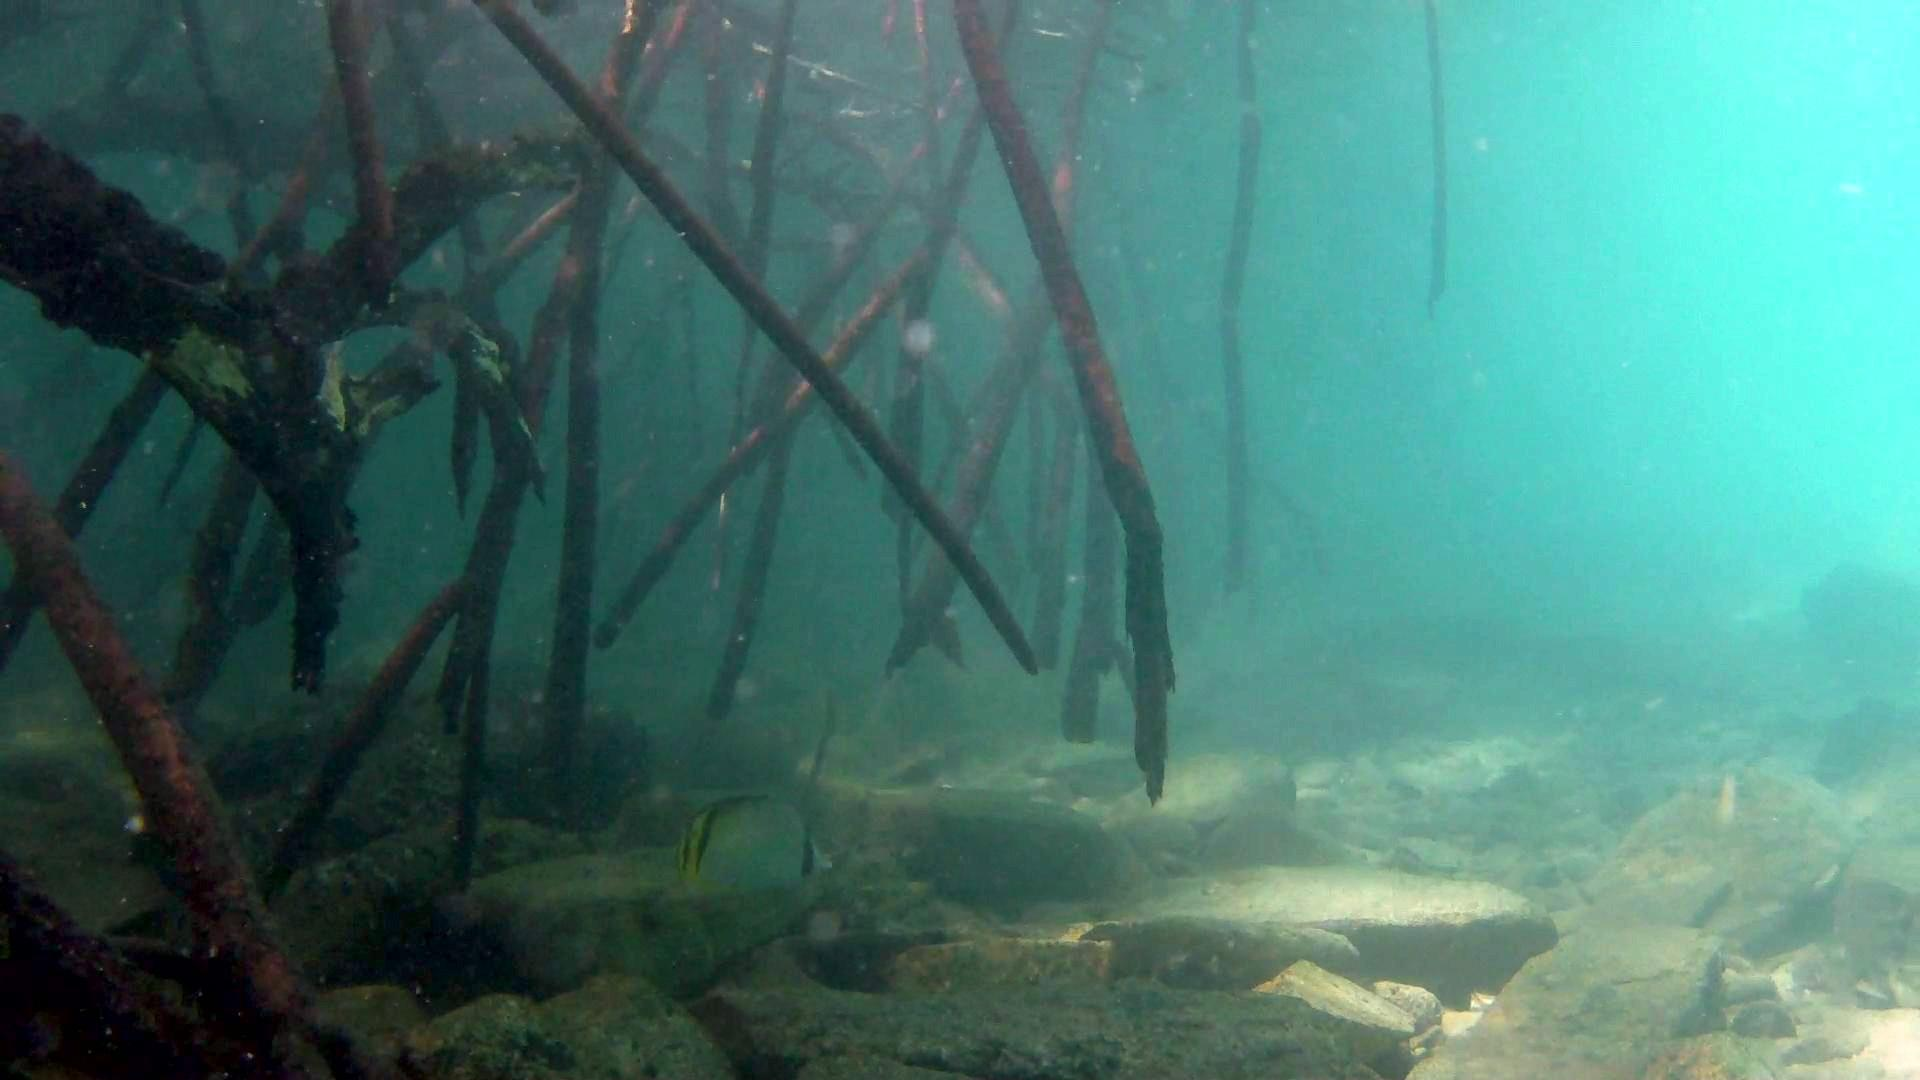chaetodon vagabundus: (673, 794, 840, 899)
